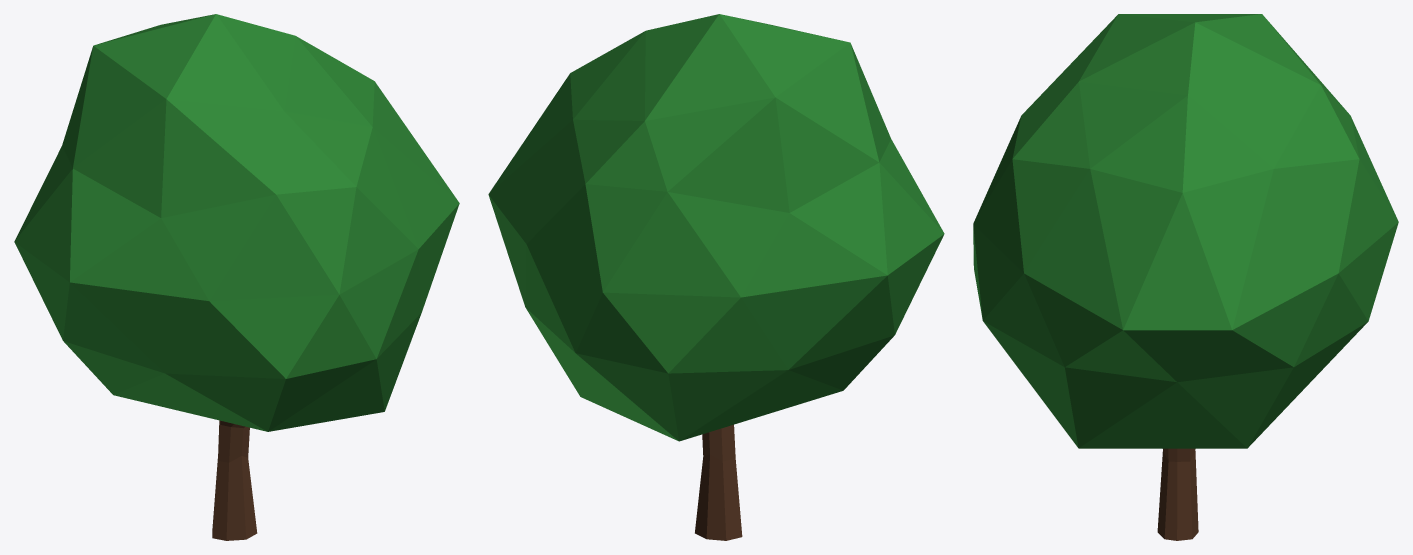
Rendered from Tree_58_Green.fbx.
3 renders of one model, left to right at view 1: azimuth 30°, elevation 25°; view 2: azimuth 150°, elevation 25°; view 3: azimuth 270°, elevation 25°, orthographic. The views are drawn at different scales.
Parts seen in each view (by area): view 1: Tree_58_Green_Part_1, Tree_58_Green_Part_2; view 2: Tree_58_Green_Part_1, Tree_58_Green_Part_2; view 3: Tree_58_Green_Part_1, Tree_58_Green_Part_2.
Part boxes in pixels (box(x1,y1,x2,y2)): Tree_58_Green_Part_1: box(14, 14, 459, 431); Tree_58_Green_Part_2: box(212, 420, 257, 540); Tree_58_Green_Part_1: box(488, 14, 944, 441); Tree_58_Green_Part_2: box(695, 424, 742, 540); Tree_58_Green_Part_1: box(973, 14, 1398, 448); Tree_58_Green_Part_2: box(1157, 448, 1198, 540).
Bounding box in the file's own units: 627 × 791 × 604.
